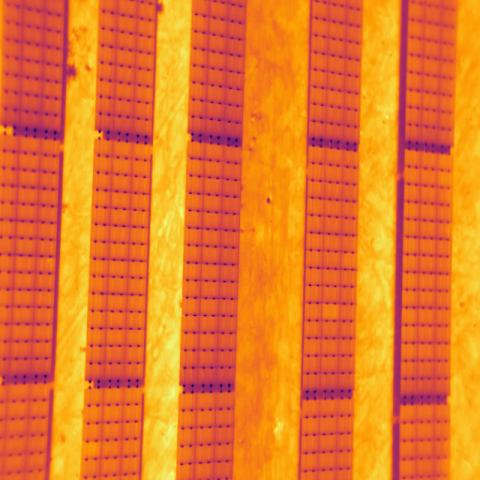fault: (82, 442, 102, 459), (323, 302, 338, 321)
